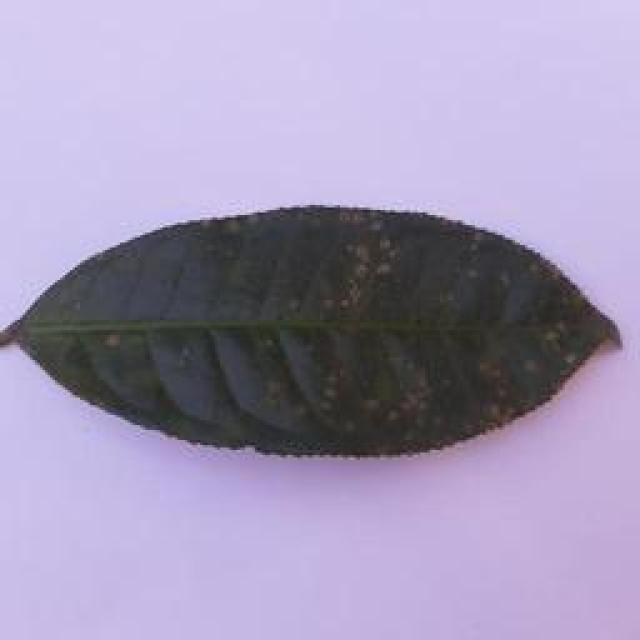Algal Leaf Spot: (0, 193, 640, 466)
